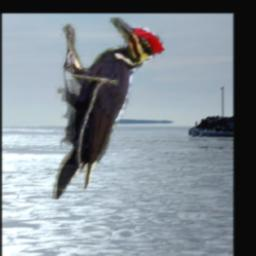Woodpecker: (52, 19, 165, 200)
